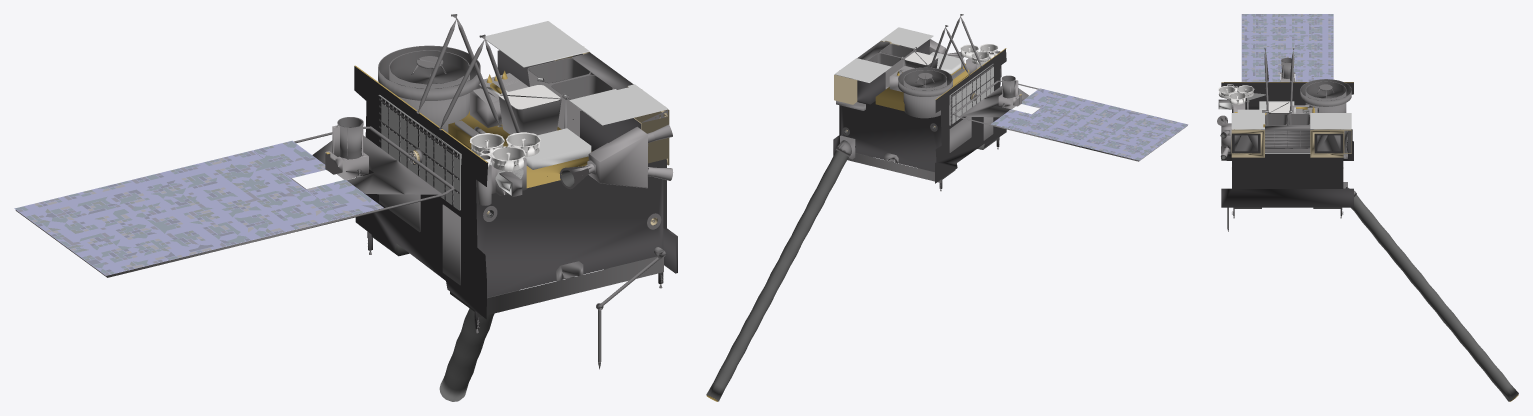
File: goes.glb
The picture shows the model from 3 angles, left to right: view 1: azimuth 30°, elevation 25°; view 2: azimuth 150°, elevation 25°; view 3: azimuth 270°, elevation 25°; orthographic projection. The views are drawn at different scales.
Parts seen in each view (by area): view 1: Layer_0; view 2: Layer_0; view 3: Layer_0.
Part boxes in pixels (x1=…): Layer_0: x1=14, y1=14, x2=677, y2=401; Layer_0: x1=706, y1=14, x2=1188, y2=401; Layer_0: x1=1217, y1=14, x2=1518, y2=401.
Bounding box in the file's own units: 0.1344 × 0.122 × 0.1114.
